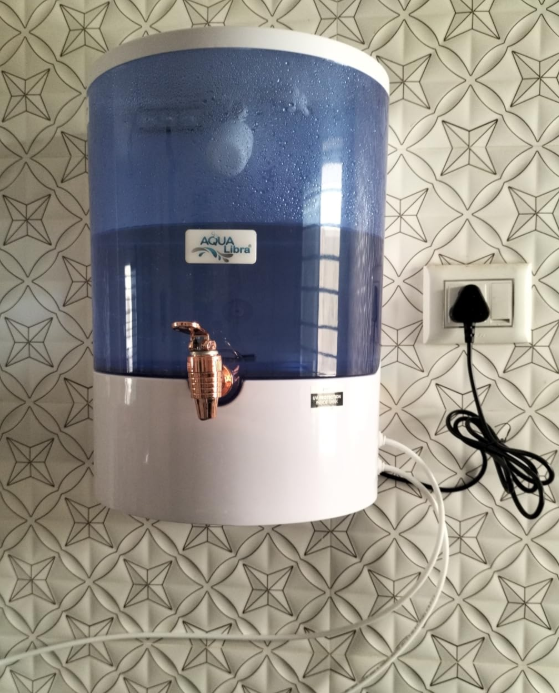water purifier: (64, 19, 401, 536)
